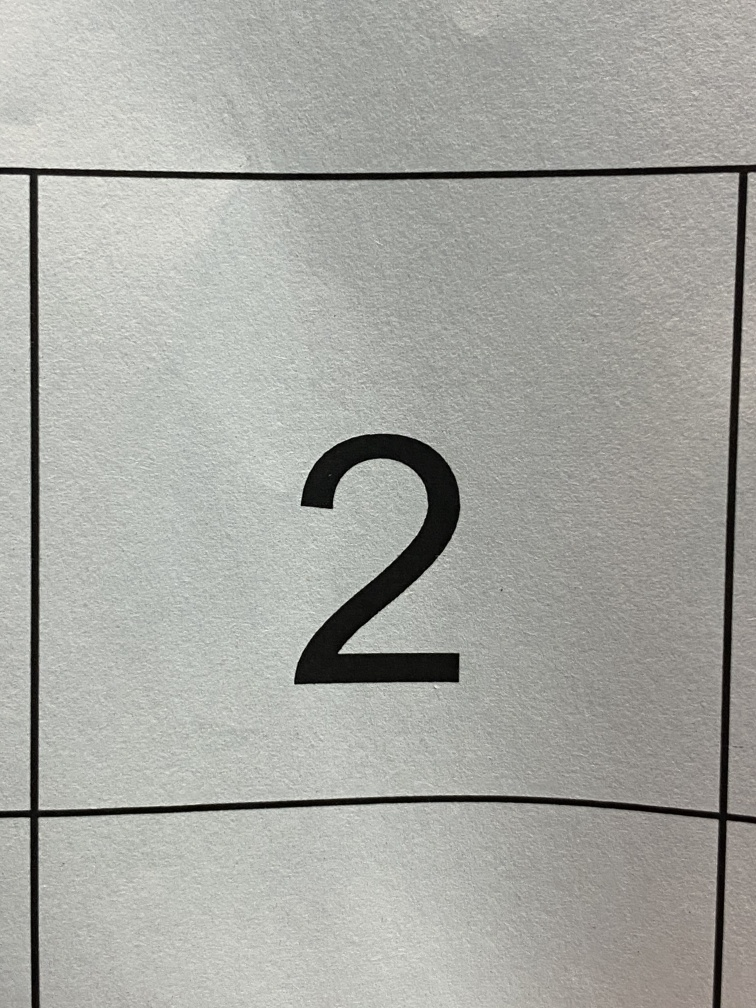two: (251, 372, 522, 774)
